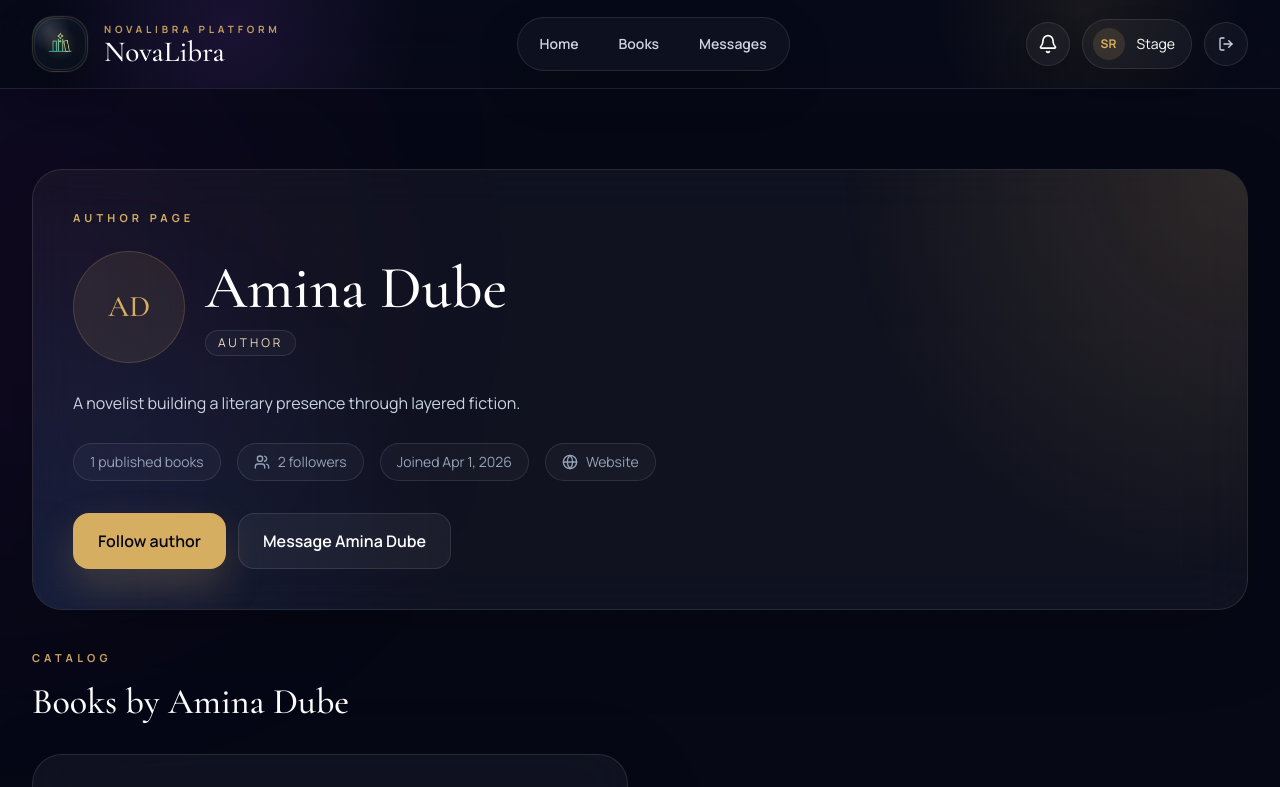
Scenario: Reader engagement experience › reader can follow and unfollow an author from the public author page
Expected: the heading "Amina Dube" is shown, [205,258,507,318]
Click the button "Follow author" at coordinates (150, 540), box [73,512,226,568]
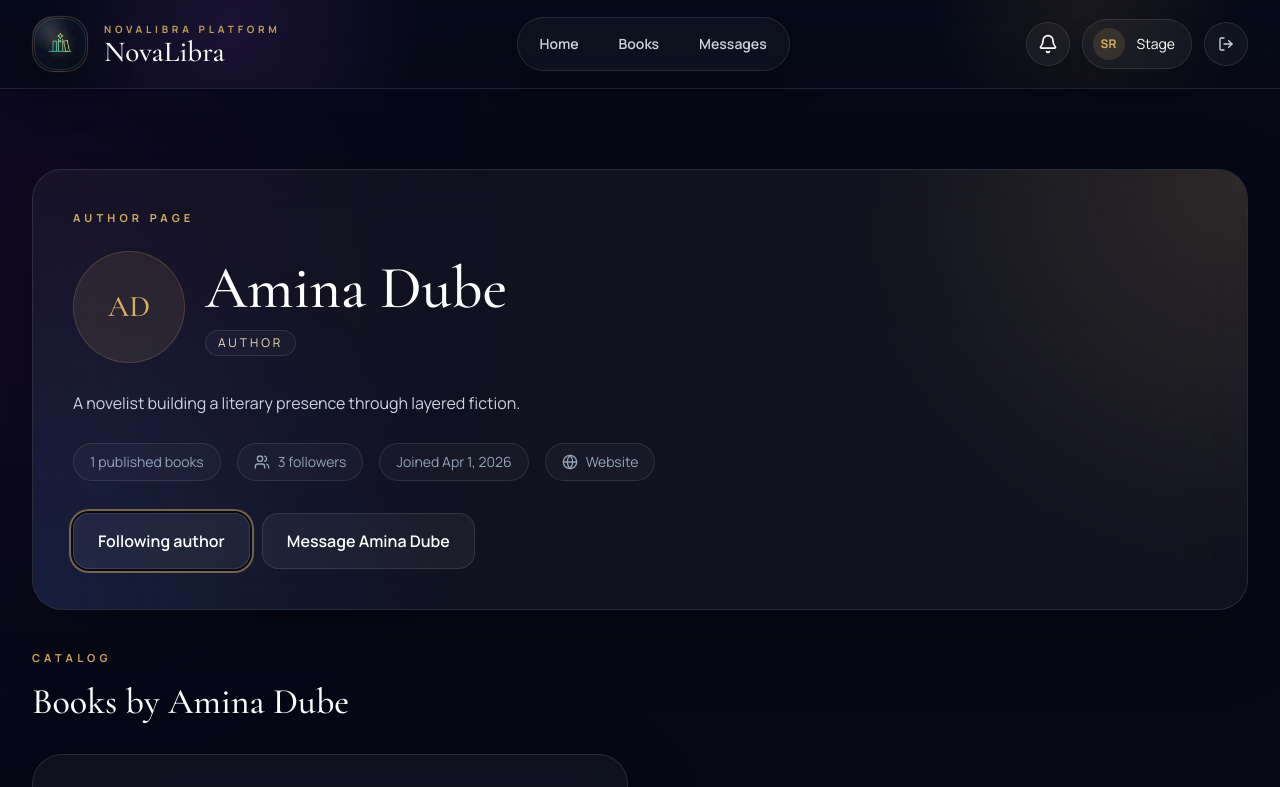
Now the button "Following author" is shown
Click the button "Following author" at coordinates (161, 540), box [73,512,250,568]
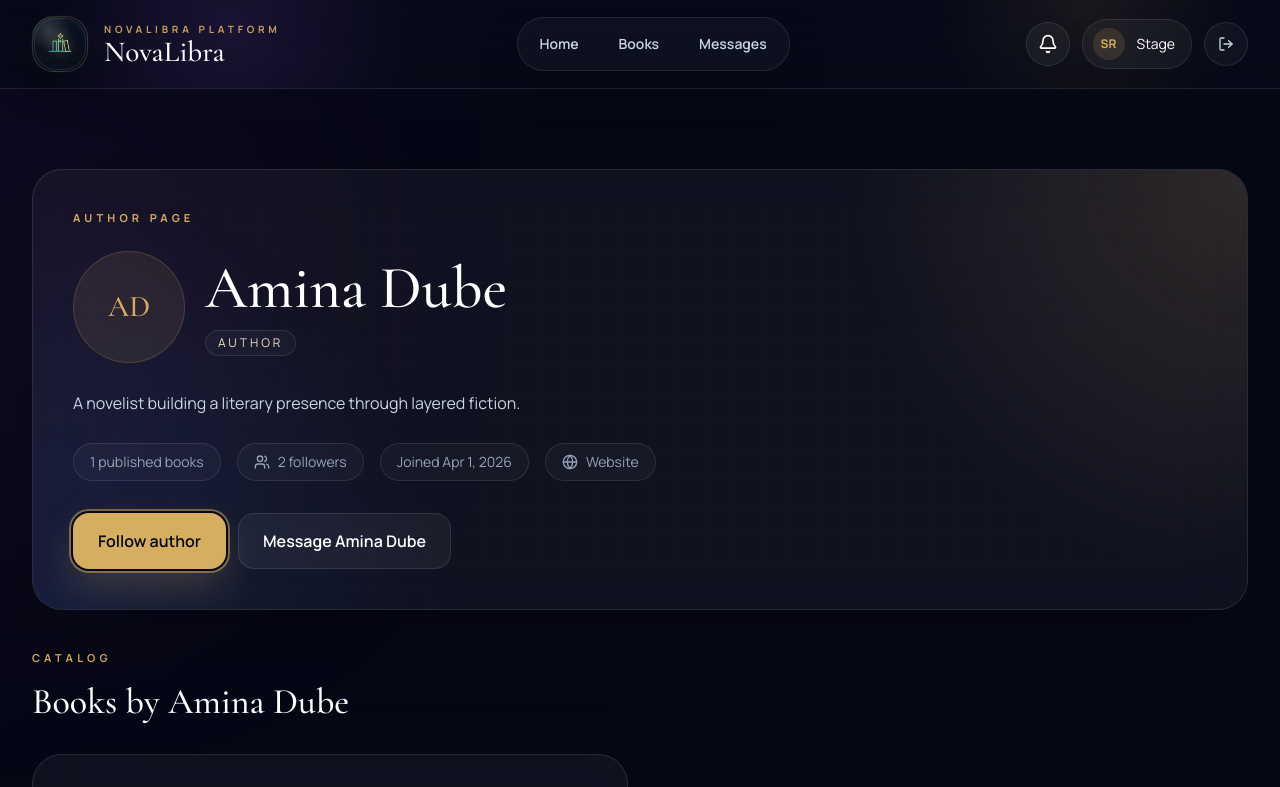
Now the button "Follow author" is shown, box [73,512,226,568]
